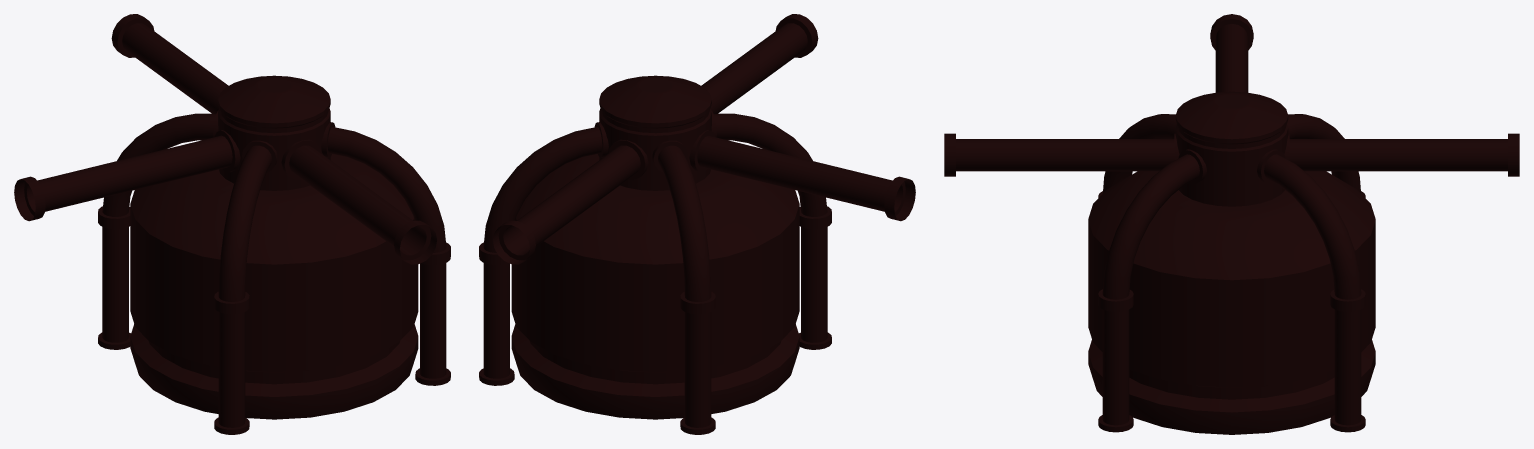
File: SM_CylinderTank-Large-B_E.fbx
3 renders of one model, left to right at view 1: azimuth 30°, elevation 25°; view 2: azimuth 150°, elevation 25°; view 3: azimuth 270°, elevation 25°, orthographic.
Visible parts, largest first — view 1: SM_CylinderTank-Large-B_E; view 2: SM_CylinderTank-Large-B_E; view 3: SM_CylinderTank-Large-B_E.
Boxes of the visible parts, x1=… form: SM_CylinderTank-Large-B_E: x1=14, y1=14, x2=450, y2=434; SM_CylinderTank-Large-B_E: x1=479, y1=14, x2=915, y2=434; SM_CylinderTank-Large-B_E: x1=944, y1=14, x2=1519, y2=434.
Bounding box in the file's own units: 750 × 1000 × 526.
